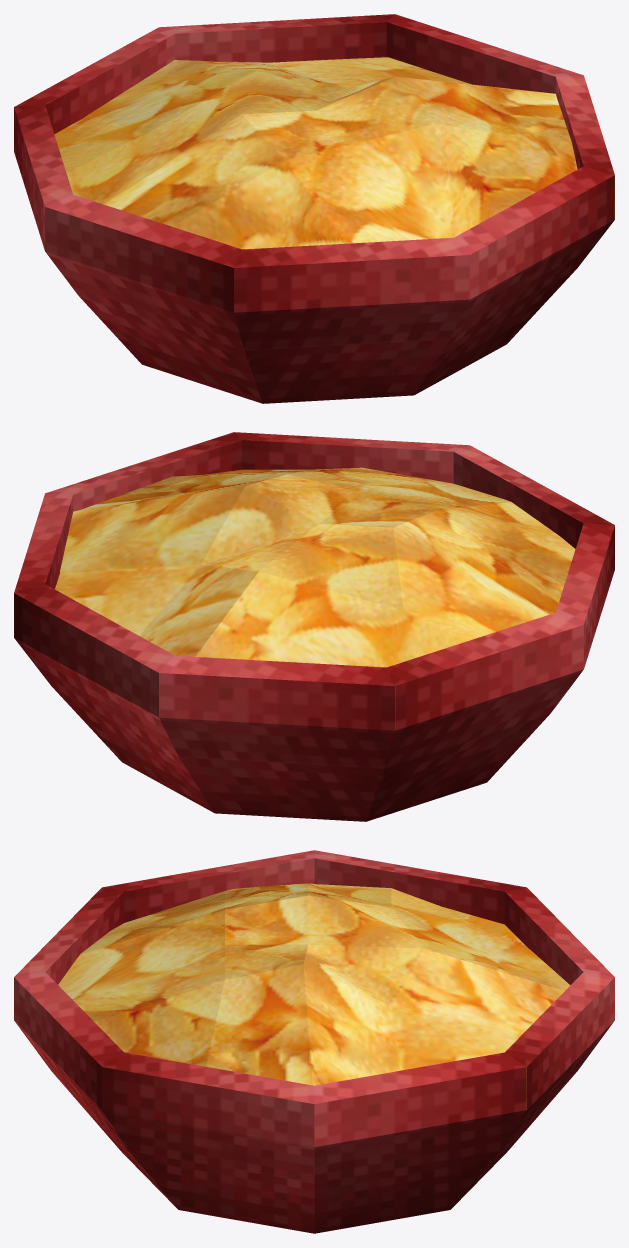
File: Chips_bowl.fbx
3 views of the same model, one above another, from view 1: azimuth 30°, elevation 25°; view 2: azimuth 150°, elevation 25°; view 3: azimuth 270°, elevation 25° (orthographic). The views are drawn at different scales.
Parts seen in each view (by area): view 1: Chips_Dish, Chips; view 2: Chips_Dish, Chips; view 3: Chips_Dish, Chips.
Part boxes in pixels (<box>): Chips_Dish: <box>14,14,614,403</box>; Chips: <box>54,57,577,249</box>; Chips_Dish: <box>14,432,614,821</box>; Chips: <box>55,467,575,667</box>; Chips_Dish: <box>14,850,614,1233</box>; Chips: <box>58,883,570,1085</box>.
Size of the model in its own units: 346 by 142 by 346.
1 material, 1 textured.
